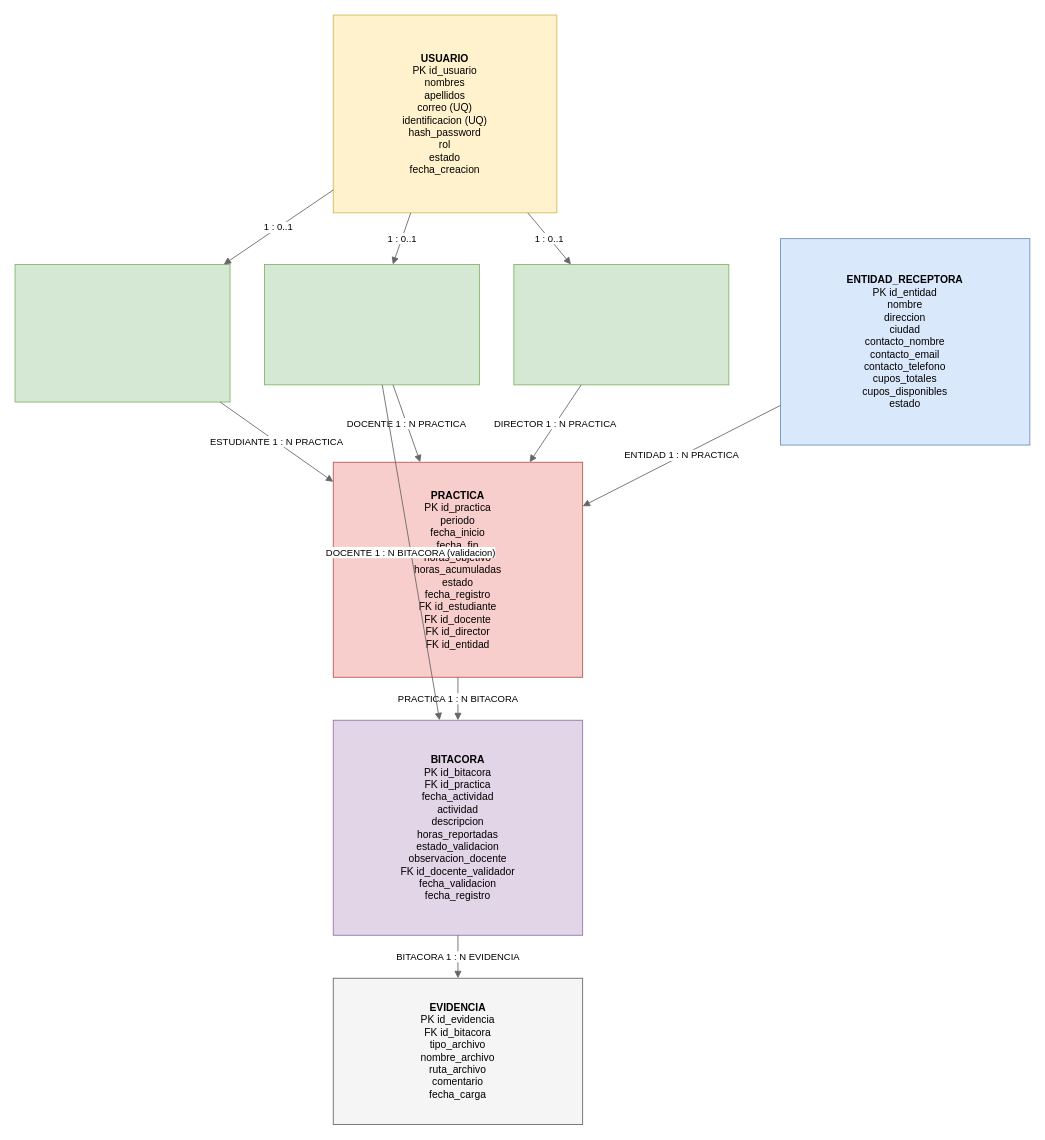
Some shapes in this 1045 by 1140 pixel diagram are drawn without their labels. Here are the shapes that lost their labels. From the top down, the centre of each, then its label:
At point (122, 333): "ESTUDIANTE PK id_estudiante codigo (UQ) programa semestre FK id_usuario (UQ)".
At point (371, 324): "DOCENTE_ASESOR PK id_docente especialidad FK id_usuario (UQ)".
At point (621, 324): "DIRECTOR_PROGRAMA PK id_director programa FK id_usuario (UQ)".
